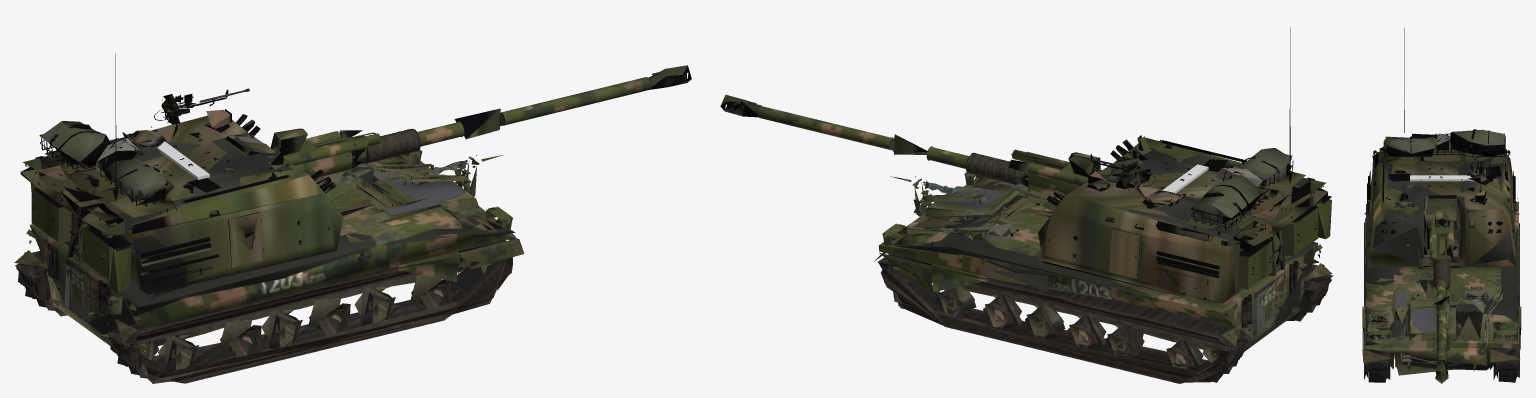
The model's file is plz05.glb.
3 views of the same model, side by side, from view 1: azimuth 30°, elevation 25°; view 2: azimuth 150°, elevation 25°; view 3: azimuth 270°, elevation 25° (orthographic). The views are drawn at different scales.
Parts seen in each view (by area): view 1: g_plz05_hull, g_plz05_turret, g_plz05_gun; view 2: g_plz05_hull, g_plz05_turret, g_plz05_gun; view 3: g_plz05_turret, g_plz05_hull, g_plz05_gun.
Boxes of the visible parts, x1,y1,x2,y2 form: g_plz05_hull: [14, 149, 524, 383]; g_plz05_turret: [20, 53, 691, 294]; g_plz05_gun: [199, 72, 667, 214]; g_plz05_hull: [874, 172, 1333, 383]; g_plz05_turret: [720, 27, 1331, 303]; g_plz05_gun: [742, 101, 1119, 196]; g_plz05_turret: [1365, 28, 1517, 383]; g_plz05_hull: [1362, 201, 1521, 382]; g_plz05_gun: [1406, 174, 1481, 373].
Bounding box in the file's own units: 11.49 × 6.28 × 3.58.
Materials: 4 (3 with a texture image).
